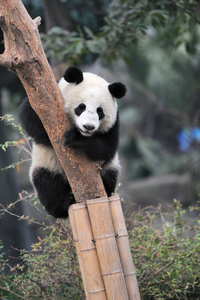panda: (23, 61, 146, 218)
